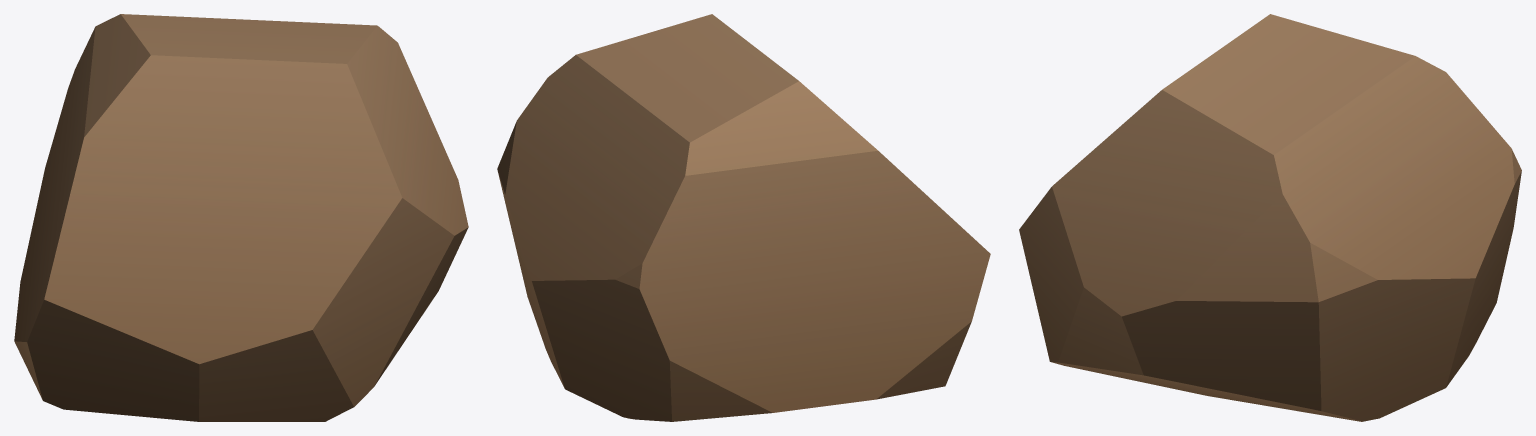
File: Rock_01.fbx
The picture shows the model from 3 angles, left to right: view 1: azimuth 30°, elevation 25°; view 2: azimuth 150°, elevation 25°; view 3: azimuth 270°, elevation 25°; orthographic projection. The views are drawn at different scales.
Parts seen in each view (by area): view 1: Rock_01; view 2: Rock_01; view 3: Rock_01.
Boxes of the visible parts, x1,y1,x2,y2 form: Rock_01: [14, 14, 468, 421]; Rock_01: [497, 14, 990, 421]; Rock_01: [1019, 14, 1521, 421].
Size of the model in its own units: 111 by 82.59 by 108.
